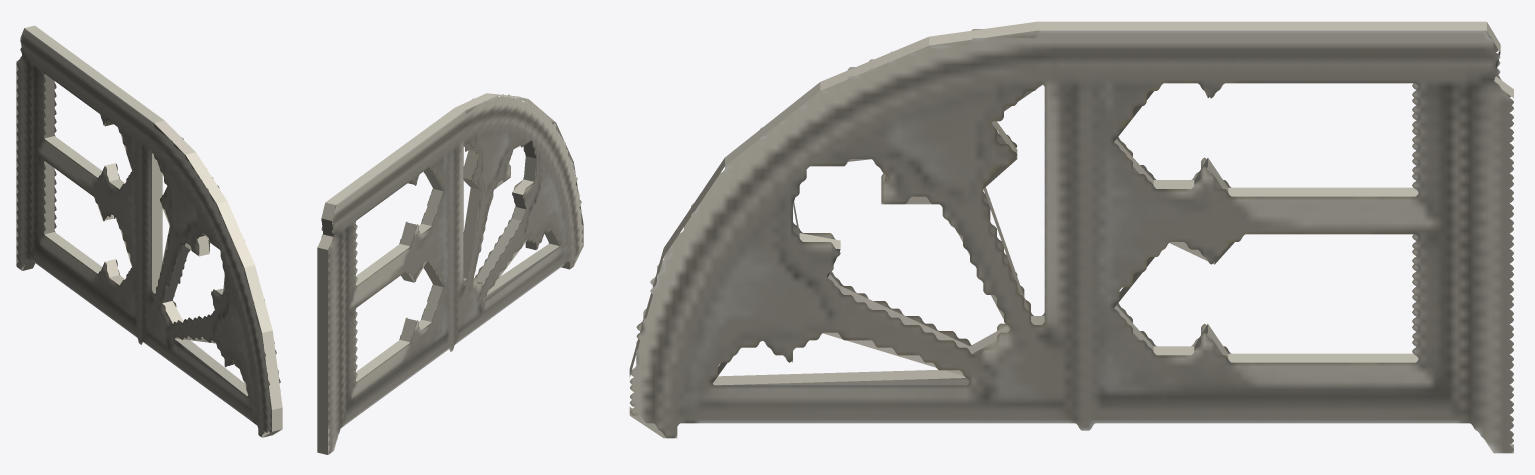
Rendered from pz_native_fixtures_windows_church_0_frame.obj.
The picture shows the model from 3 angles, left to right: view 1: azimuth 30°, elevation 25°; view 2: azimuth 150°, elevation 25°; view 3: azimuth 270°, elevation 25°; orthographic projection. The views are drawn at different scales.
Visible parts, largest first — view 1: pz_native_fixtures_windows_church_0_frame; view 2: pz_native_fixtures_windows_church_0_frame; view 3: pz_native_fixtures_windows_church_0_frame.
Boxes of the visible parts, <box> form: pz_native_fixtures_windows_church_0_frame: <box>16,25,282,437</box>; pz_native_fixtures_windows_church_0_frame: <box>317,93,583,454</box>; pz_native_fixtures_windows_church_0_frame: <box>629,21,1513,453</box>.
Bounding box in the file's own units: 0.04 × 0.9062 × 1.7.
1 material, 1 textured.
